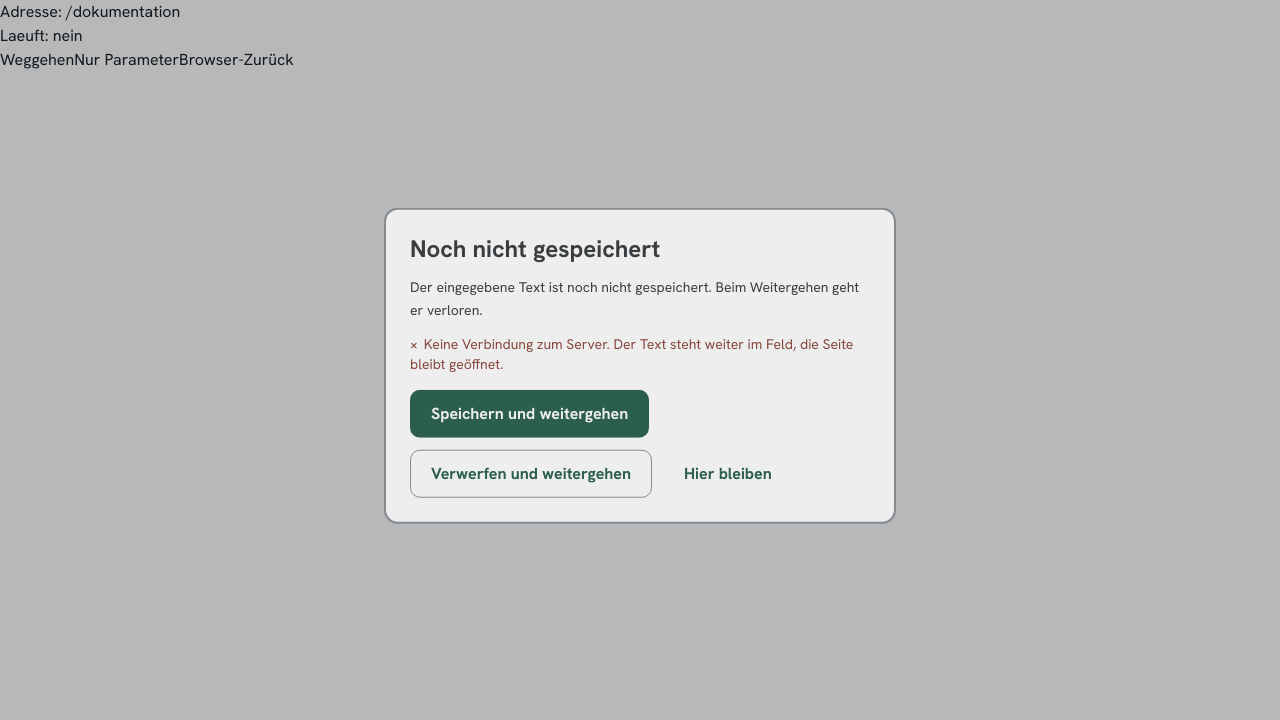
Textverlustschutz: Navigation innerhalb der Anwendung › bietet ohne Speicherweg nur Verwerfen und Bleiben und sagt, warum
Click the link "Weggehen". click: point(37, 60)
box: top-left (0, 49), bottom-right (74, 70)
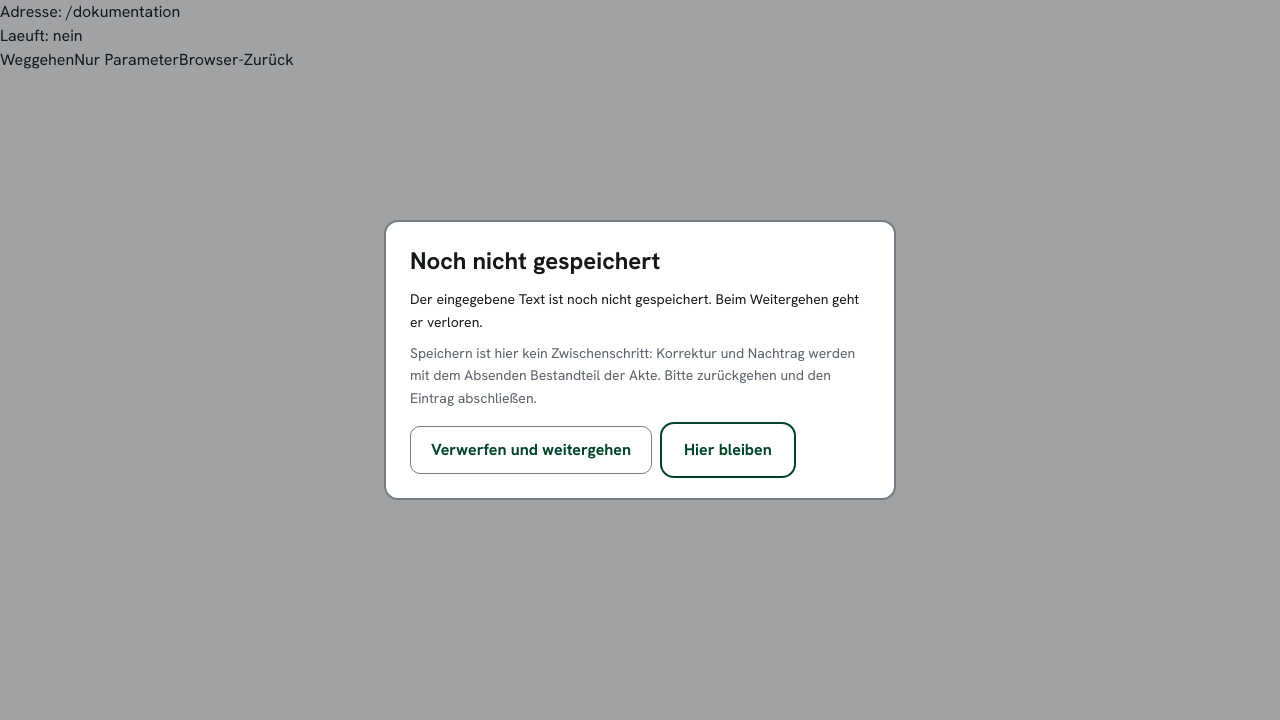
Expected: the button "Verwerfen und weitergehen" is shown, top-left (410, 426), bottom-right (652, 474)
Expected: the button "Speichern und weitergehen" is gone
Expected: the text "Bestandteil der Akte" is shown, top-left (410, 344), bottom-right (855, 407)
